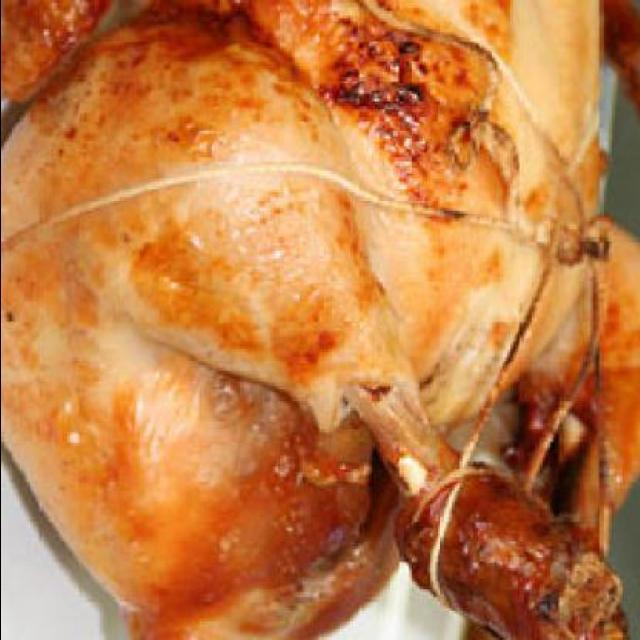Chicken roast: (2, 16, 630, 638)
